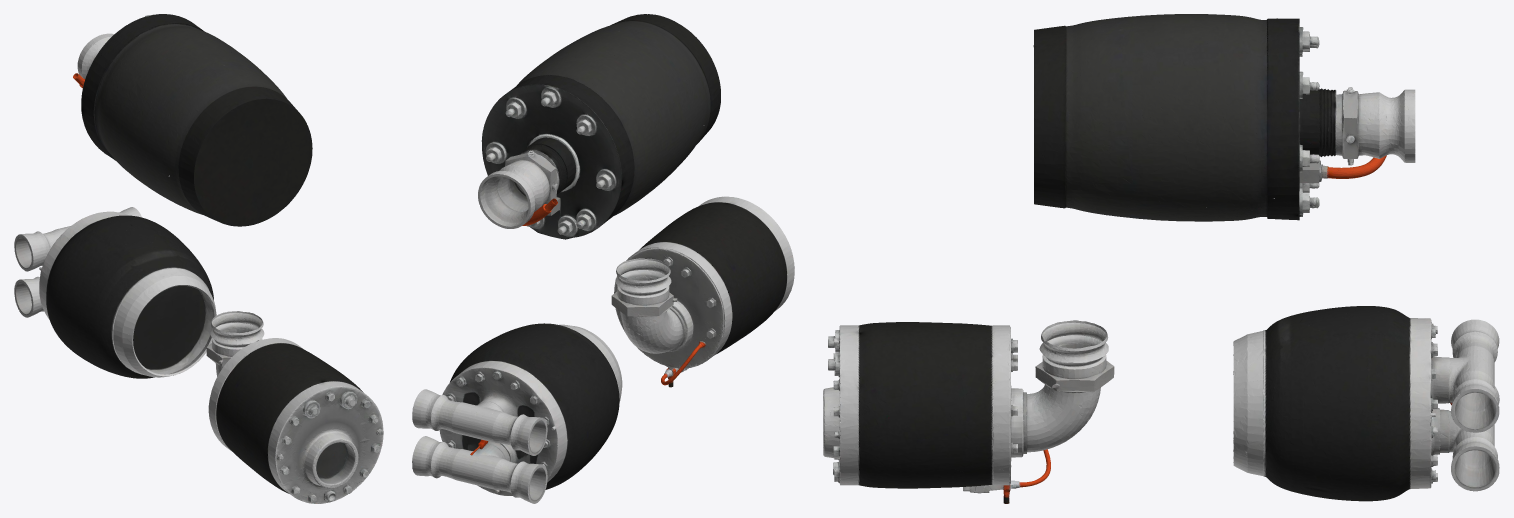
The model's file is gas-cylinder-3d-model.glb.
3 renders of one model, left to right at view 1: azimuth 30°, elevation 25°; view 2: azimuth 150°, elevation 25°; view 3: azimuth 270°, elevation 25°, orthographic. The views are drawn at different scales.
Parts seen in each view (by area): view 1: tripo_node_a2dc04af-397b-4eab-96d1-8c8a3f8fe766; view 2: tripo_node_a2dc04af-397b-4eab-96d1-8c8a3f8fe766; view 3: tripo_node_a2dc04af-397b-4eab-96d1-8c8a3f8fe766.
Part boxes in pixels (left/top/right/bottom): tripo_node_a2dc04af-397b-4eab-96d1-8c8a3f8fe766: left=14, top=14, right=383, bottom=503; tripo_node_a2dc04af-397b-4eab-96d1-8c8a3f8fe766: left=412, top=14, right=794, bottom=503; tripo_node_a2dc04af-397b-4eab-96d1-8c8a3f8fe766: left=823, top=14, right=1499, bottom=503.
Size of the model in its own units: 0.3054 by 0.784 by 0.9999.
1 material, 1 textured.
